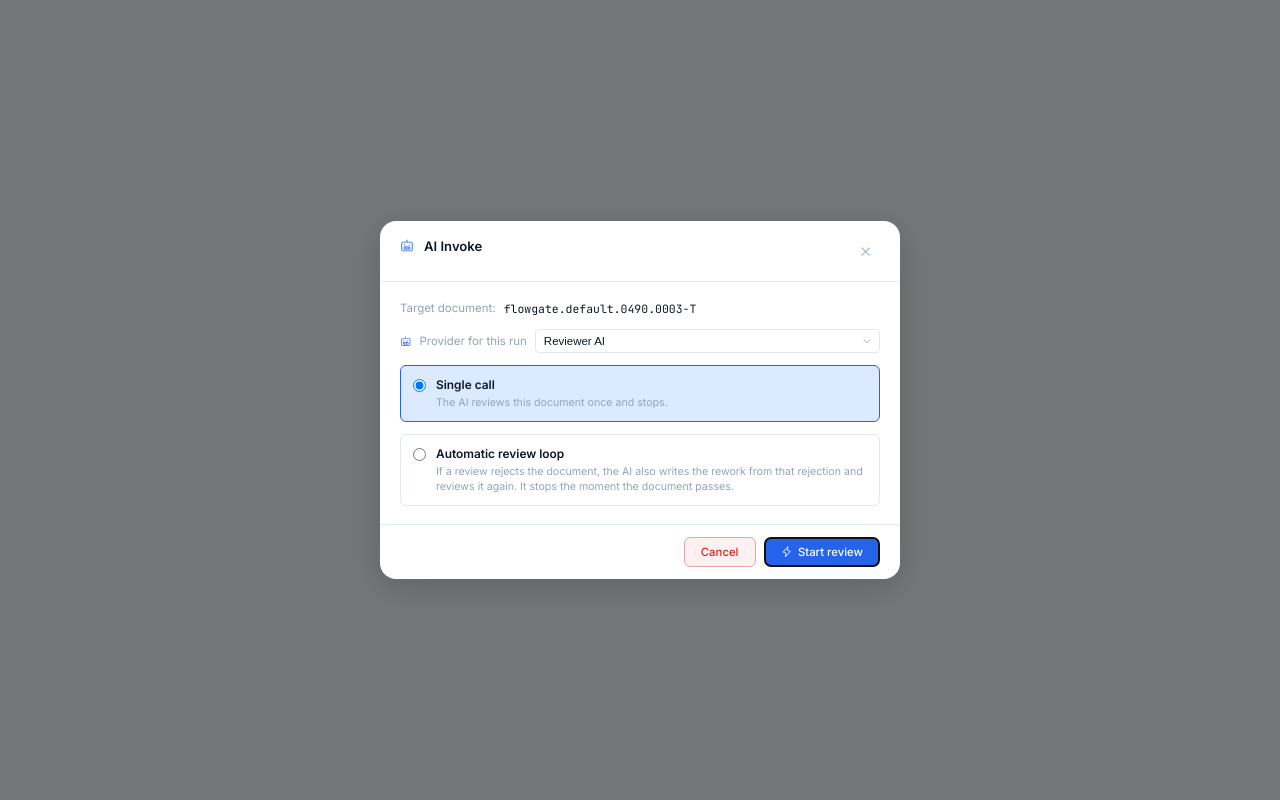
it: AiInvokeDialog repeat-count selects follow the server ceiling (0490 T0007) › clamps the review-count DEFAULT to the ceiling instead of leaving an unreachable literal 3
Click the 2nd radio button.
click(420, 455)  # box [413,448,426,461]
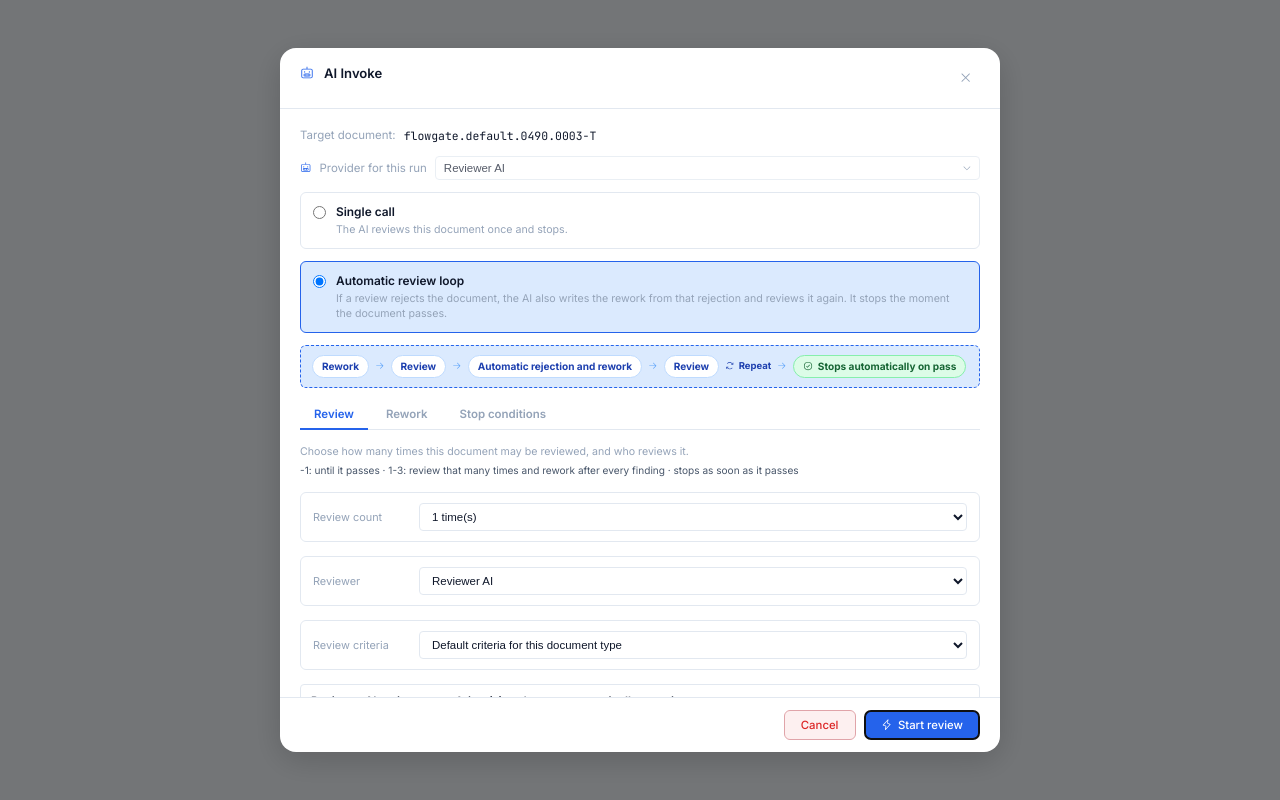
Check: the dropdown with test id "review-loop-review-count" shows "1 time(s)", box [419,503,967,531]
